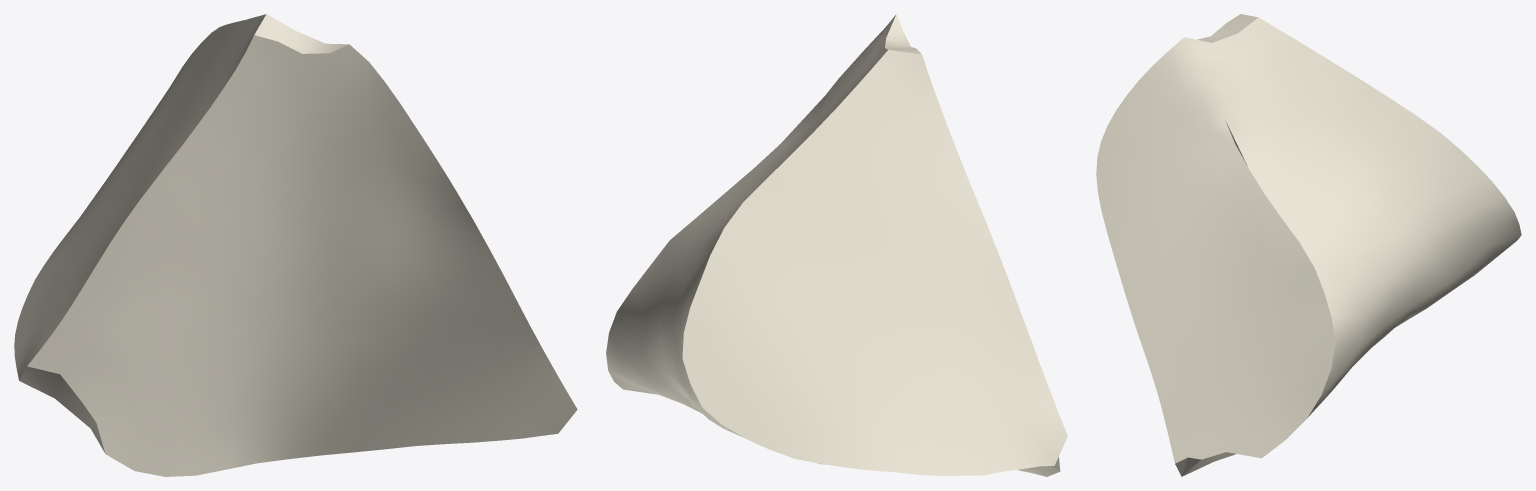
Rendered from fma16331_mm2359.glb.
3 views of the same model, side by side, from view 1: azimuth 30°, elevation 25°; view 2: azimuth 150°, elevation 25°; view 3: azimuth 270°, elevation 25° (orthographic). The views are drawn at different scales.
Visible parts, largest first — view 1: FMA16331_MM2359; view 2: FMA16331_MM2359; view 3: FMA16331_MM2359.
Boxes of the visible parts, x1,y1,x2,y2 form: FMA16331_MM2359: (14,14,577,476); FMA16331_MM2359: (606,14,1067,476); FMA16331_MM2359: (1096,14,1521,476).
Size of the model in its own units: 0.00831 by 0.00736 by 0.00783.
